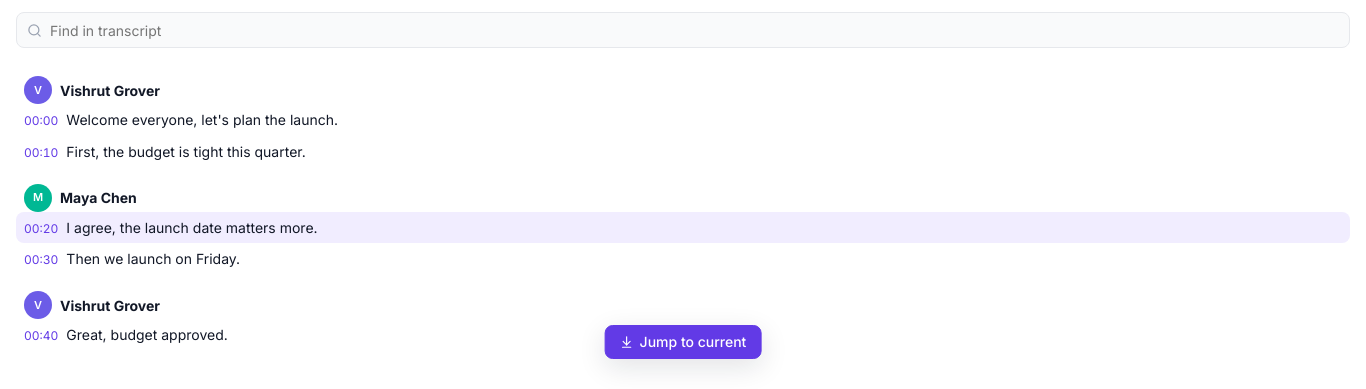
TranscriptPanel › stops following when the reader scrolls, offers a way back, and a click on a line resumes
Check: the button "00:00Welcome everyone, let's plan the launch." is shown, box [16,104,1350,136]
Click the button "Jump to current". click: x=683, y=342
box: [605,325,761,359]
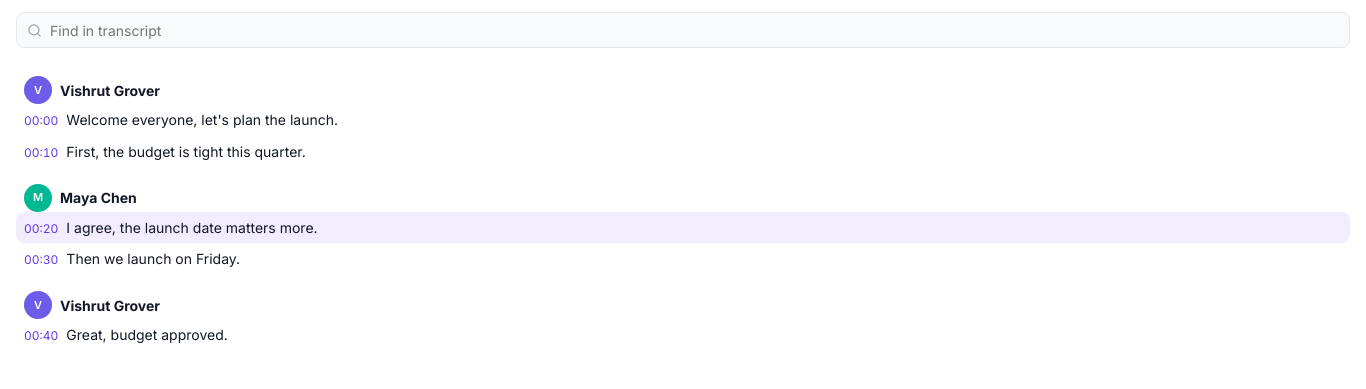
Check: the button "Jump to current" is gone
